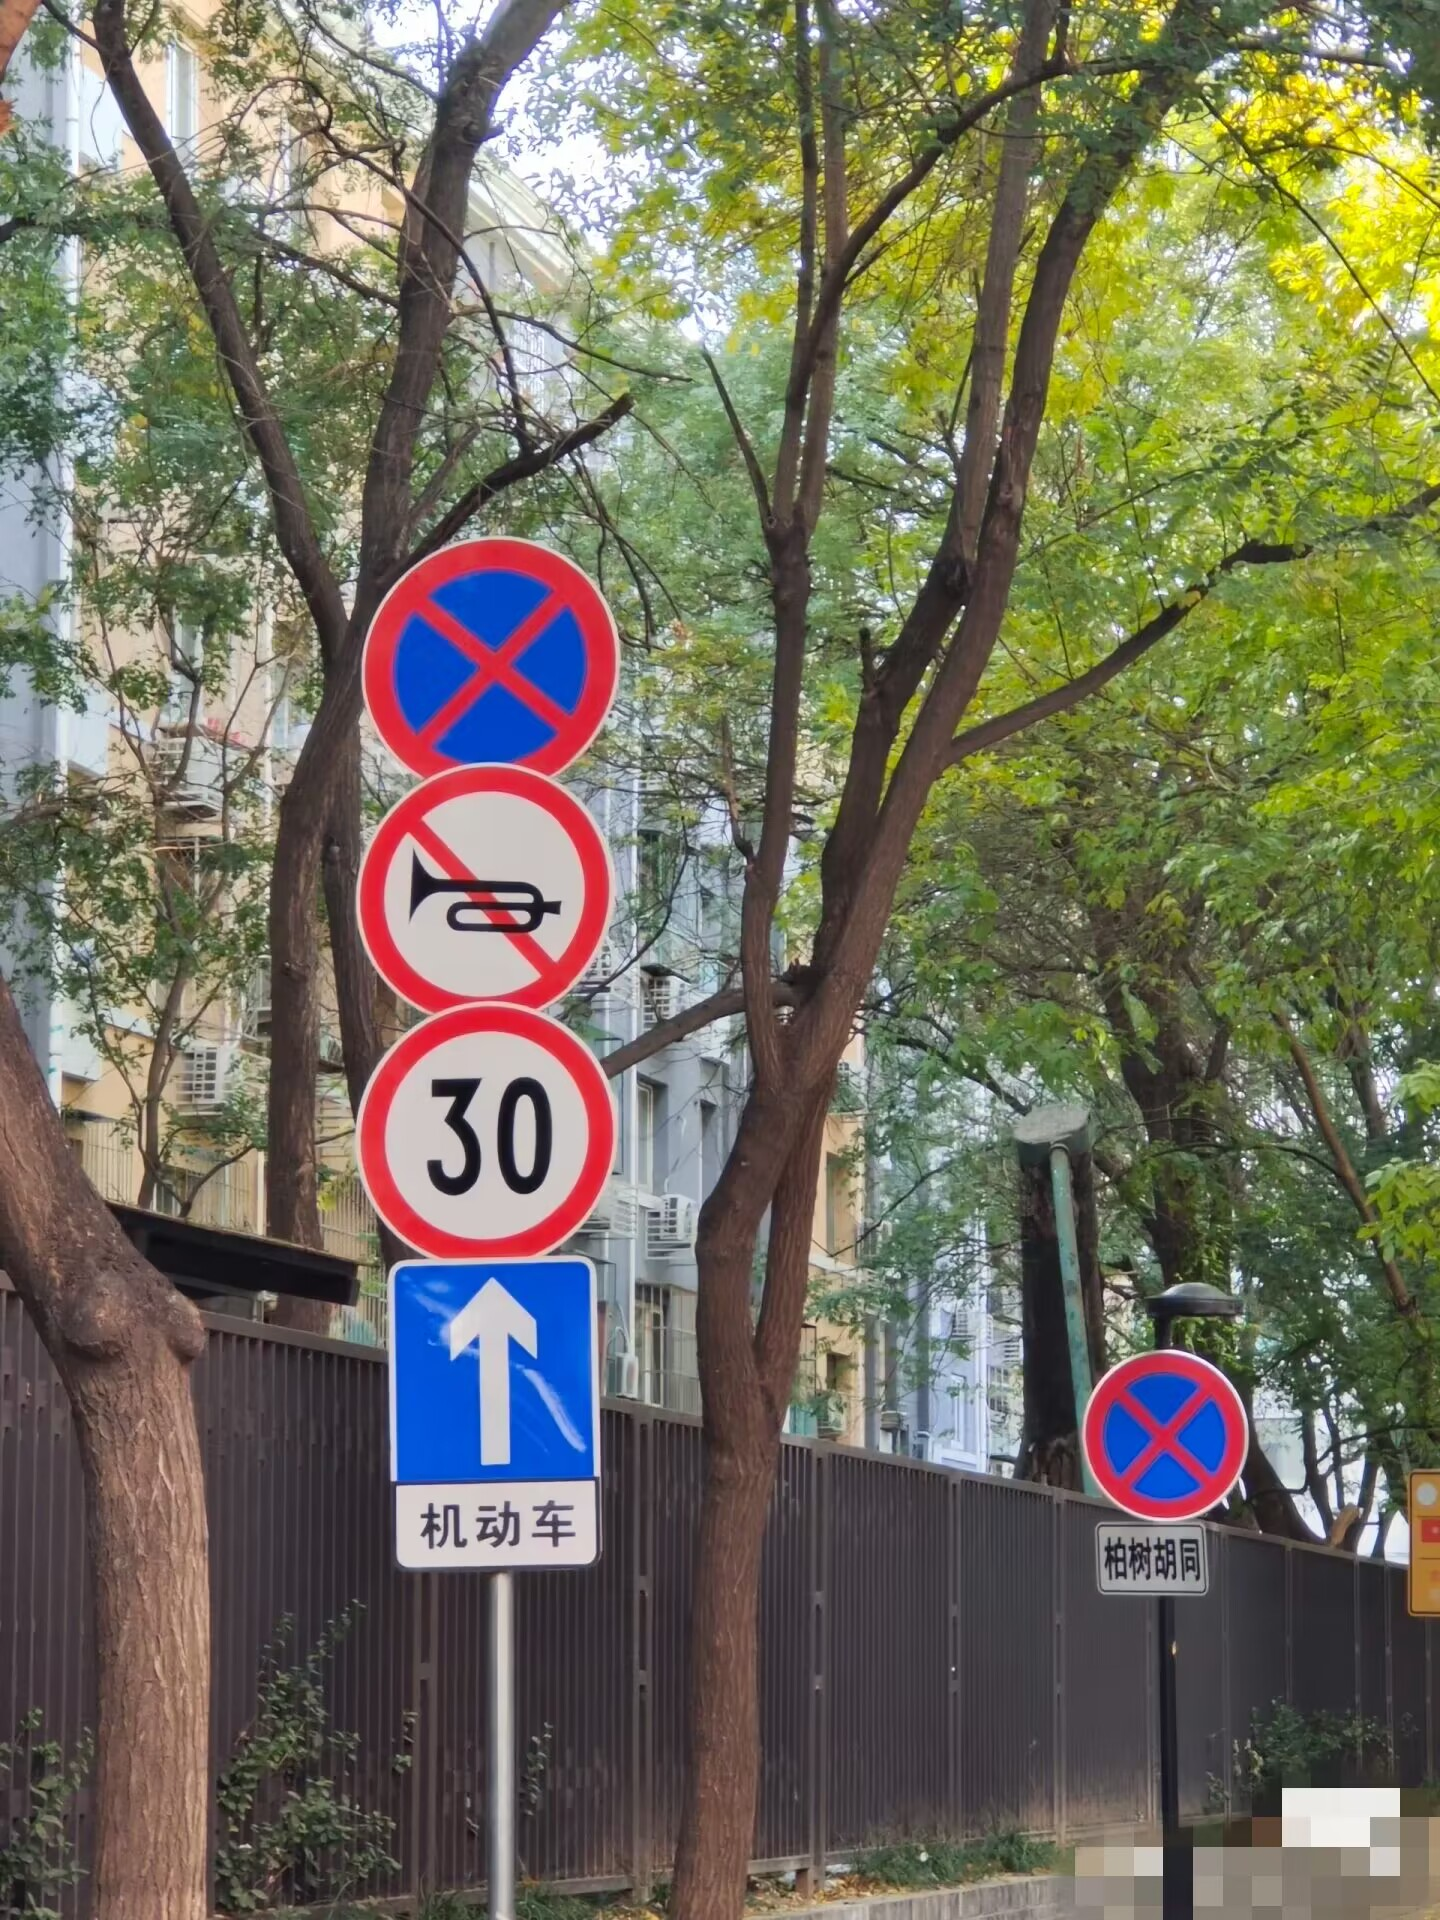p11: (352, 777, 616, 1022)
pl30: (355, 1036, 616, 1265)
pn: (358, 540, 616, 773), (1088, 1346, 1237, 1525)
